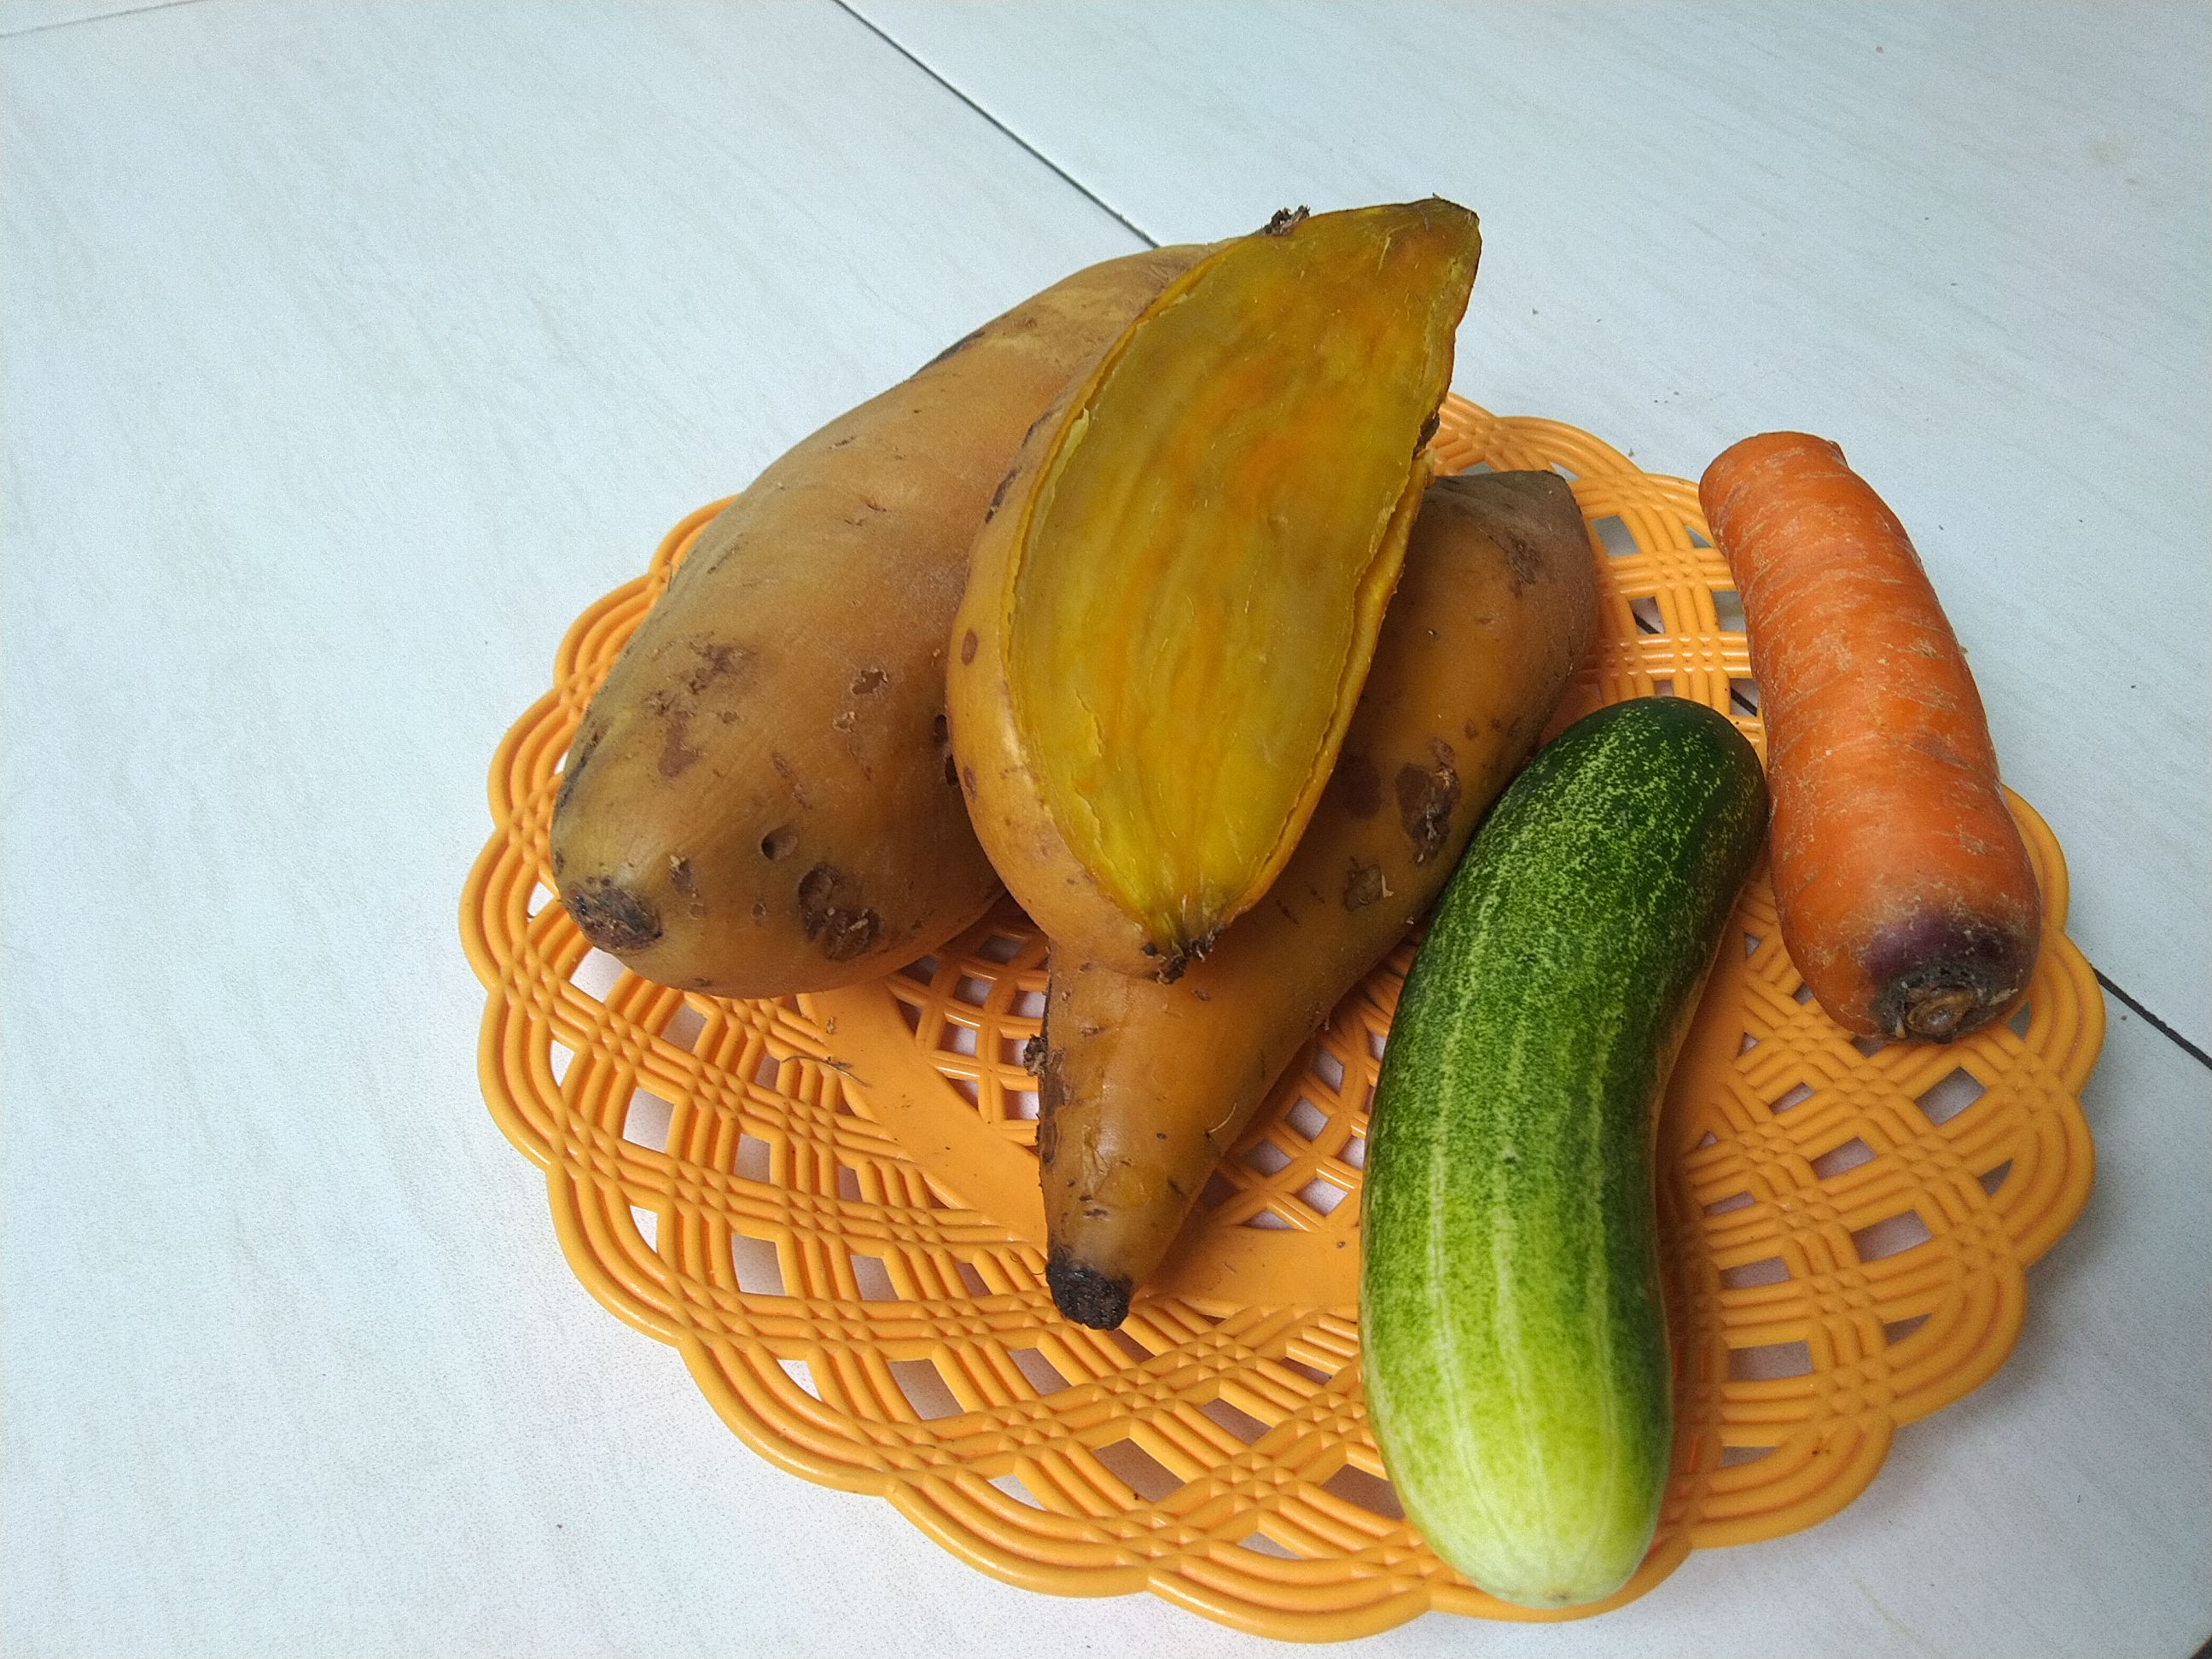ubi cilembu: (531, 220, 1284, 993), (1038, 446, 1599, 1338), (934, 160, 1484, 971)
